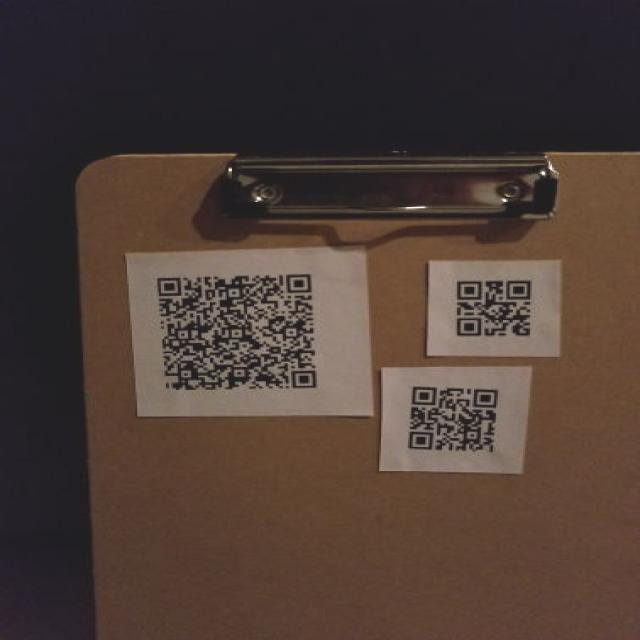QRCode: (142, 260, 335, 402), (394, 377, 516, 464), (441, 269, 546, 346)
